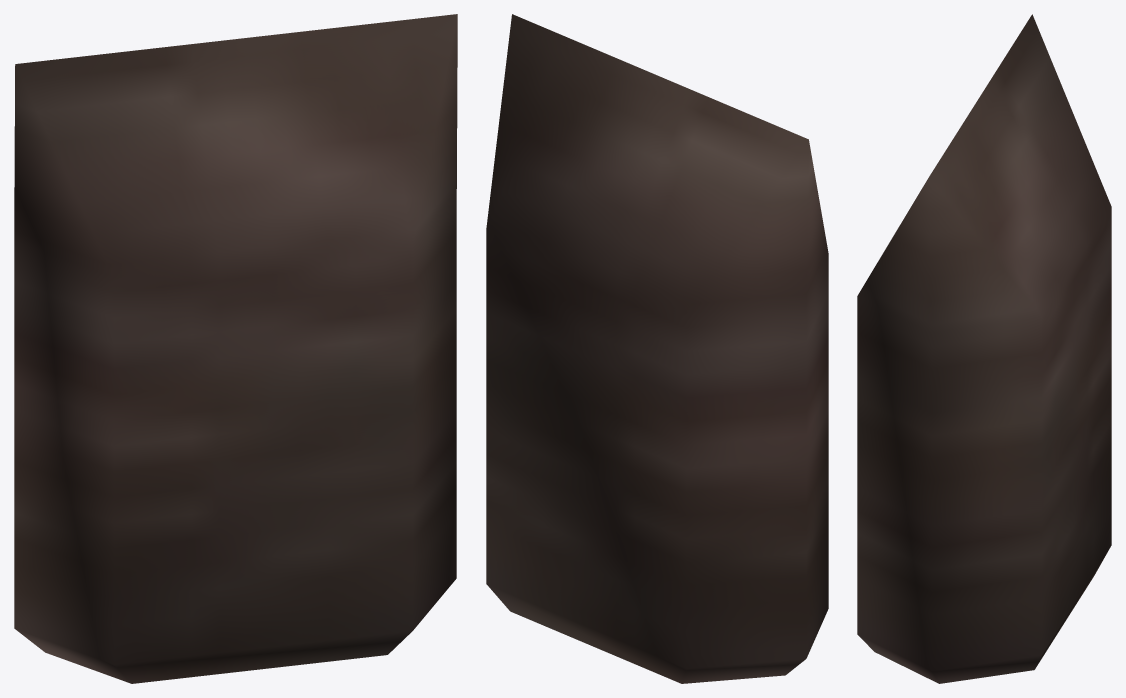
The picture shows the model from 3 angles, left to right: view 1: azimuth 30°, elevation 25°; view 2: azimuth 150°, elevation 25°; view 3: azimuth 270°, elevation 25°; orthographic projection. The views are drawn at different scales.
Parts seen in each view (by area): view 1: Soap_powder001_Hygiene_0; view 2: Soap_powder001_Hygiene_0; view 3: Soap_powder001_Hygiene_0.
Boxes of the visible parts, x1,y1,x2,y2 form: Soap_powder001_Hygiene_0: (14,14,457,683); Soap_powder001_Hygiene_0: (486,14,828,683); Soap_powder001_Hygiene_0: (857,14,1111,683).
Bounding box in the file's own units: 0.1716 × 0.2534 × 0.1128.
Materials: 1 (1 with a texture image).
